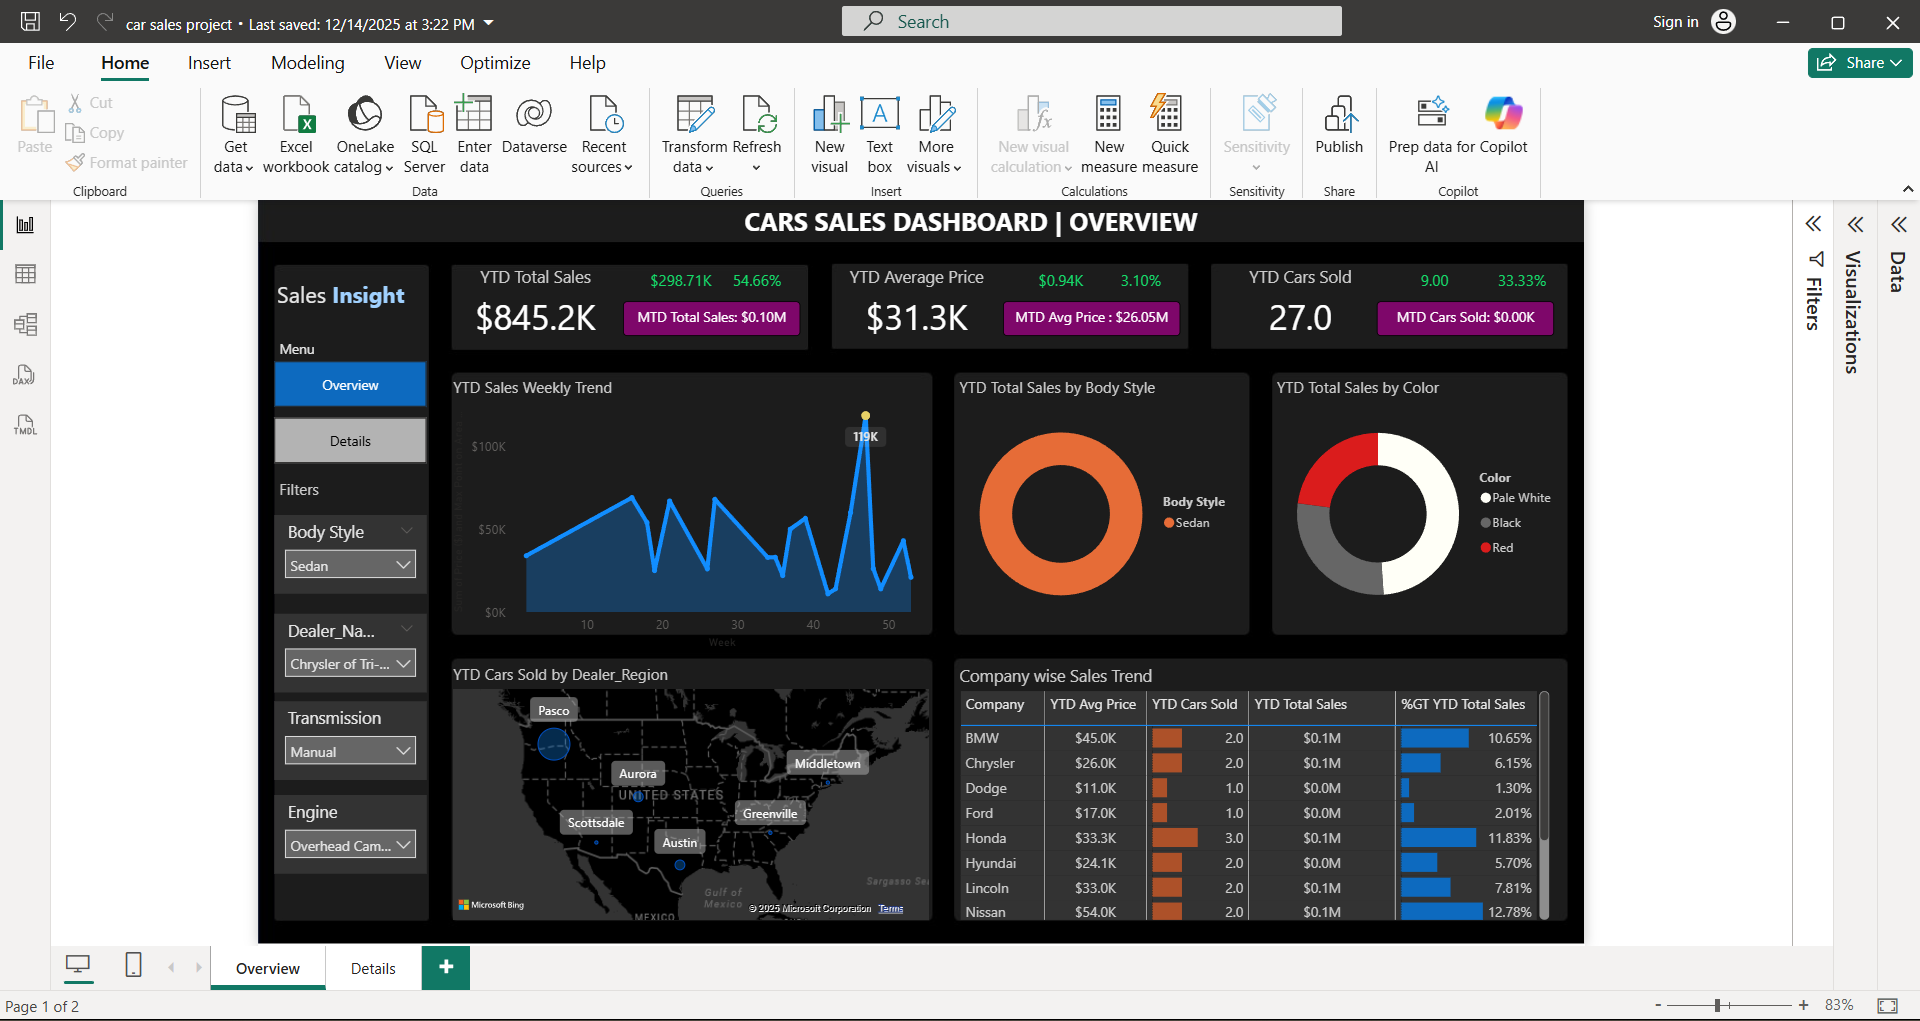

What the dashboard file says about the page in this screenshot:
{"tool":"powerbi","page":{"name":"Overview","canvas":[1280,720],"ordinal":0},"visuals":[{"type":"card","title":"YTD Total Sales","fields":{"Values":["car_data.Year To Date"]},"box":[170.1,62.7,195.4,78.4],"z":0},{"type":"card","fields":{"Values":["car_data.difference of sales"]},"box":[352.3,62.7,112.2,35],"z":1000},{"type":"card","fields":{"Values":["car_data.YoY"]},"box":[425.9,62.7,112.2,35],"z":2000},{"type":"card","fields":{"Values":["car_data.MTD KPI"]},"box":[352.3,97.7,171.3,33.8],"z":3000},{"type":"card","title":"YTD Average Price","fields":{"Values":["car_data.YTD Avg Price"]},"box":[538.1,62.7,195.4,78.4],"z":4000},{"type":"card","fields":{"Values":["car_data.Avg price diff"]},"box":[719,62.7,112.2,35],"z":5000},{"type":"card","fields":{"Values":["car_data.YoY Avg Price"]},"box":[796.3,62.7,112.2,35],"z":6000},{"type":"card","fields":{"Values":["car_data.MTD Avg price KPI"]},"box":[719,97.7,171.3,33.8],"z":7000},{"type":"card","title":"YTD Cars Sold","fields":{"Values":["car_data.YTD Cars Sold"]},"box":[908.4,62.7,195.4,78.4],"z":8000},{"type":"card","fields":{"Values":["car_data.Cars Sold Diff"]},"box":[1079.8,62.7,112.2,35],"z":9000},{"type":"card","fields":{"Values":["car_data.YoY Car Sold Growth"]},"box":[1164.2,62.7,112.2,35],"z":10000},{"type":"card","fields":{"Values":["car_data.MTD Cars Sold KPI"]},"box":[1079.8,97.7,171.3,33.8],"z":11000},{"type":"areaChart","title":"YTD Sales Weekly Trend","fields":{"Category":["Calender Table.Week"],"Y":["Sum(car_data.Price ($))","car_data.Max Point on Area Chart"]},"box":[183.9,170.2,469.3,267.6],"z":12000},{"type":"donutChart","fields":{"Category":["car_data.Body Style"],"Y":["car_data.Year To Date"]},"box":[672,170.1,283.5,246.1],"z":13000},{"type":"donutChart","fields":{"Y":["car_data.Year To Date"],"Category":["car_data.Color"]},"box":[978.4,170.1,283.5,246.1],"z":14000},{"type":"map","fields":{"Category":["car_data.Dealer_Region"],"Size":["car_data.YTD Cars Sold"]},"box":[183.4,447.6,469.3,252.1],"z":15000},{"type":"tableEx","title":"Company wise Sales Trend","fields":{"Values":["car_data.Company","car_data.YTD Avg Price","car_data.YTD Cars Sold","car_data.Year To Date Total Sales","car_data.Year To Date"]},"box":[672,447.6,579.1,252.1],"z":16000},{"type":"textbox","box":[464.5,0,469.3,49.5],"z":17000},{"type":"slicer","fields":{"Values":["car_data.Body Style"]},"box":[15.7,304,147.2,76],"z":18000},{"type":"slicer","fields":{"Values":["car_data.Dealer_Name"]},"box":[15.7,399.3,147.2,76],"z":18001},{"type":"slicer","fields":{"Values":["car_data.Transmission"]},"box":[15.7,483.8,147.2,76],"z":18002},{"type":"slicer","fields":{"Values":["car_data.Engine"]},"box":[15.7,574.3,147.2,76],"z":18003},{"type":"textbox","box":[15.7,264.2,149.6,39.8],"z":18004},{"type":"pageNavigator","box":[15.7,155.6,147.2,98.9],"z":18005},{"type":"textbox","box":[13.3,71.2,150.8,53.1],"z":18006},{"type":"textbox","box":[15.7,129.1,49.5,41],"z":18007}]}

Visuals, with their boxes on the page's 1280x720 design canvas (x1, y1, x2, y2). These are canvas units, not pixel positions in the 1920x1021 screenshot, which may show the page scaled, cropped or inside an application window:
"YTD Total Sales" card: (x1=170, y1=63, x2=366, y2=141)
card - car_data.difference of sales: (x1=352, y1=63, x2=464, y2=98)
card - car_data.YoY: (x1=426, y1=63, x2=538, y2=98)
card - car_data.MTD KPI: (x1=352, y1=98, x2=524, y2=132)
"YTD Average Price" card: (x1=538, y1=63, x2=734, y2=141)
card - car_data.Avg price diff: (x1=719, y1=63, x2=831, y2=98)
card - car_data.YoY Avg Price: (x1=796, y1=63, x2=908, y2=98)
card - car_data.MTD Avg price KPI: (x1=719, y1=98, x2=890, y2=132)
"YTD Cars Sold" card: (x1=908, y1=63, x2=1104, y2=141)
card - car_data.Cars Sold Diff: (x1=1080, y1=63, x2=1192, y2=98)
card - car_data.YoY Car Sold Growth: (x1=1164, y1=63, x2=1276, y2=98)
card - car_data.MTD Cars Sold KPI: (x1=1080, y1=98, x2=1251, y2=132)
"YTD Sales Weekly Trend" areaChart: (x1=184, y1=170, x2=653, y2=438)
donutChart - car_data.Body Style x car_data.Year To Date: (x1=672, y1=170, x2=956, y2=416)
donutChart - car_data.Year To Date x car_data.Color: (x1=978, y1=170, x2=1262, y2=416)
map - car_data.Dealer_Region x car_data.YTD Cars Sold: (x1=183, y1=448, x2=653, y2=700)
"Company wise Sales Trend" tableEx: (x1=672, y1=448, x2=1251, y2=700)
textbox: (x1=464, y1=0, x2=934, y2=50)
slicer - car_data.Body Style: (x1=16, y1=304, x2=163, y2=380)
slicer - car_data.Dealer_Name: (x1=16, y1=399, x2=163, y2=475)
slicer - car_data.Transmission: (x1=16, y1=484, x2=163, y2=560)
slicer - car_data.Engine: (x1=16, y1=574, x2=163, y2=650)
textbox: (x1=16, y1=264, x2=165, y2=304)
pageNavigator: (x1=16, y1=156, x2=163, y2=254)
textbox: (x1=13, y1=71, x2=164, y2=124)
textbox: (x1=16, y1=129, x2=65, y2=170)
